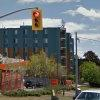Traffic light: (27, 6, 51, 39)
